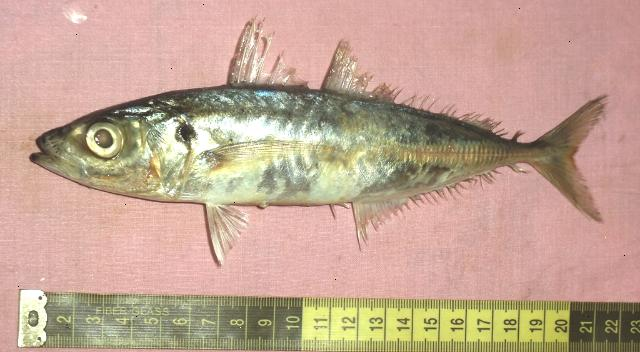Mulut: (22, 117, 72, 185)
Sirip Anal: (352, 165, 510, 248)
Sirip Dada: (184, 127, 354, 181)
Sirip Ekor: (545, 76, 619, 226)
Sirip Perut: (198, 192, 256, 276)
Sirip Punggung: (224, 12, 390, 104)
